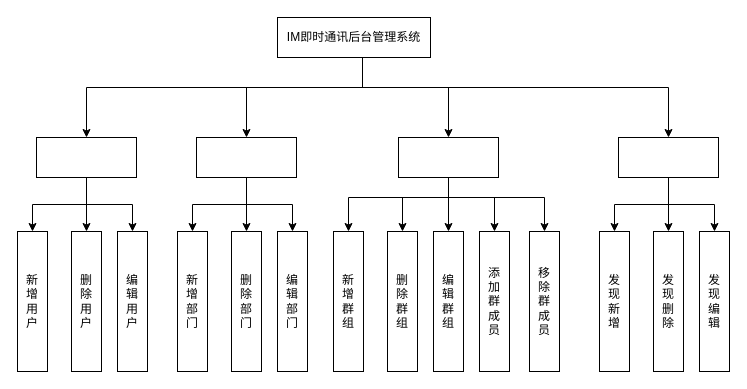
The diagram is 747 pixels wide and 389 high, and some of its shapes have lost their labels. Each missing label, with the box of its shape:
发现管理: (618, 136, 718, 178)
用户管理: (36, 136, 136, 178)
群组管理: (398, 136, 498, 178)
部门管理: (196, 136, 296, 178)
